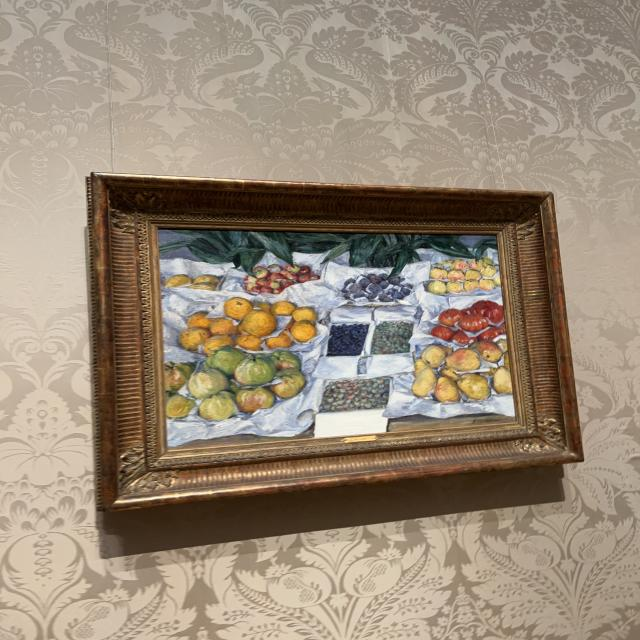fruits: (161, 229, 514, 446)
